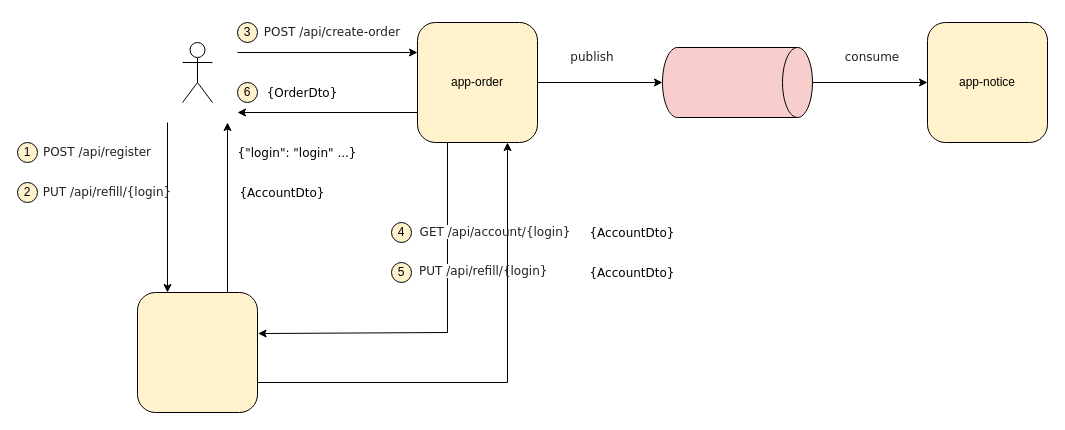
Image size: 1065x430. Some labels were removed from this diagram. The centre of each missing label's shape, as x and y in pixels:
ActiveMQ: the point at 737,82
app-billing: the point at 197,352
User: the point at 197,72
